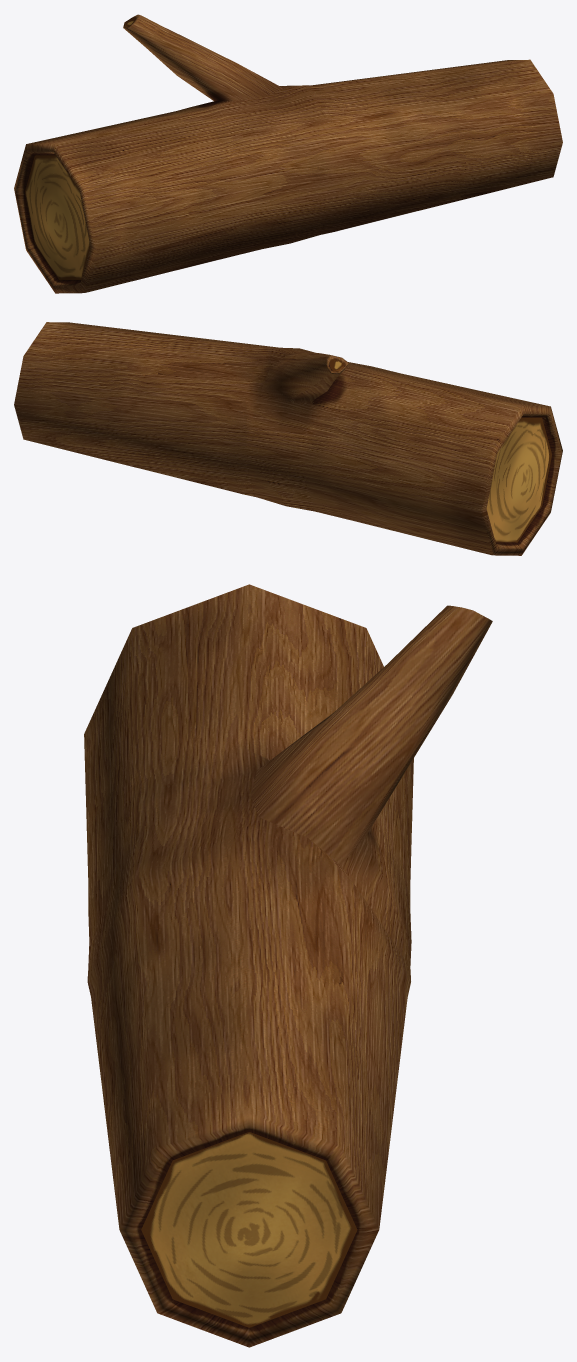
File: touboku.fbx
3 renders of one model, top to bottom at view 1: azimuth 30°, elevation 25°; view 2: azimuth 150°, elevation 25°; view 3: azimuth 270°, elevation 25°, orthographic. The views are drawn at different scales.
Visible parts, largest first — view 1: pCube1; view 2: pCube1; view 3: pCube1.
Boxes of the visible parts, x1,y1,x2,y2 form: pCube1: [14, 14, 562, 293]; pCube1: [14, 322, 562, 555]; pCube1: [84, 584, 492, 1347].
Bounding box in the file's own units: 201 × 82.85 × 74.21.
